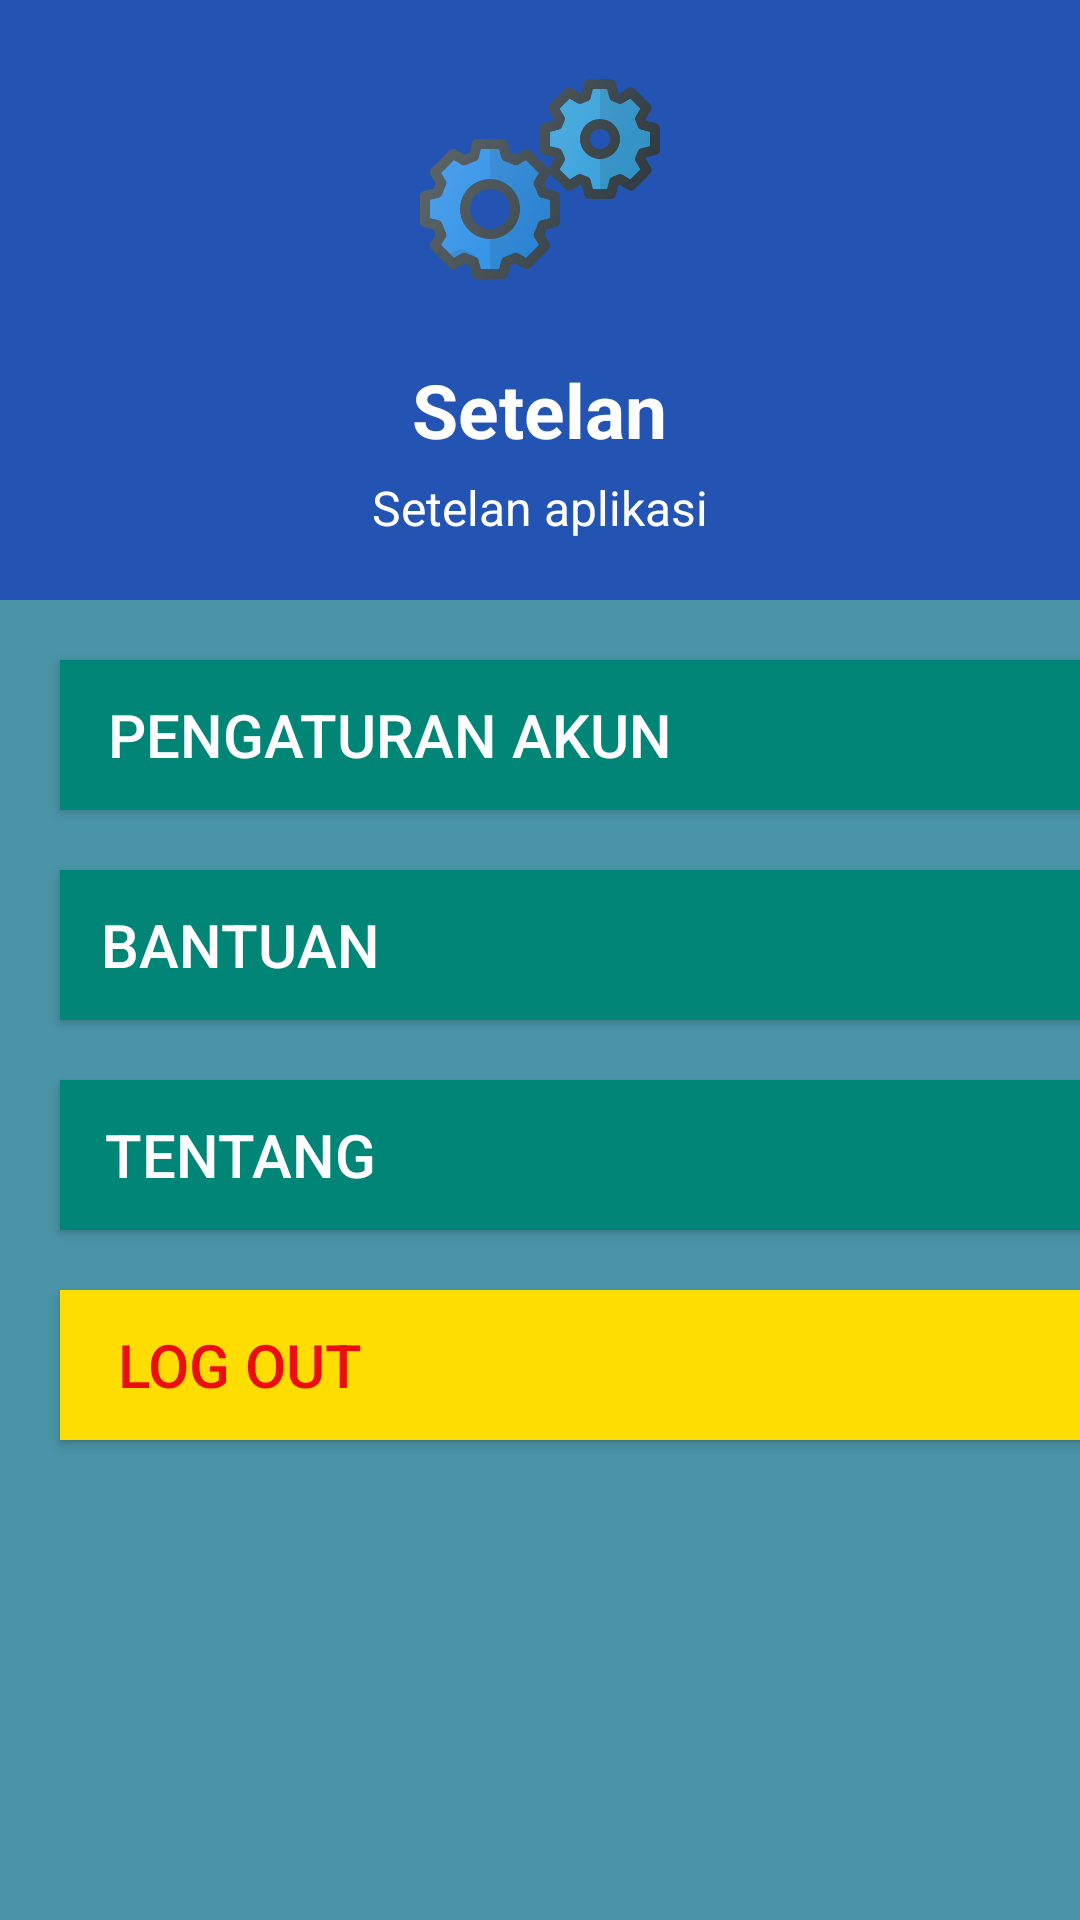

Icon bounding boxes for this 1080x1920 phone screenshot, format [x1=x1, y1=y1, x2=x2, y2=y2]:
gear: [x1=420, y1=79, x2=660, y2=279]
